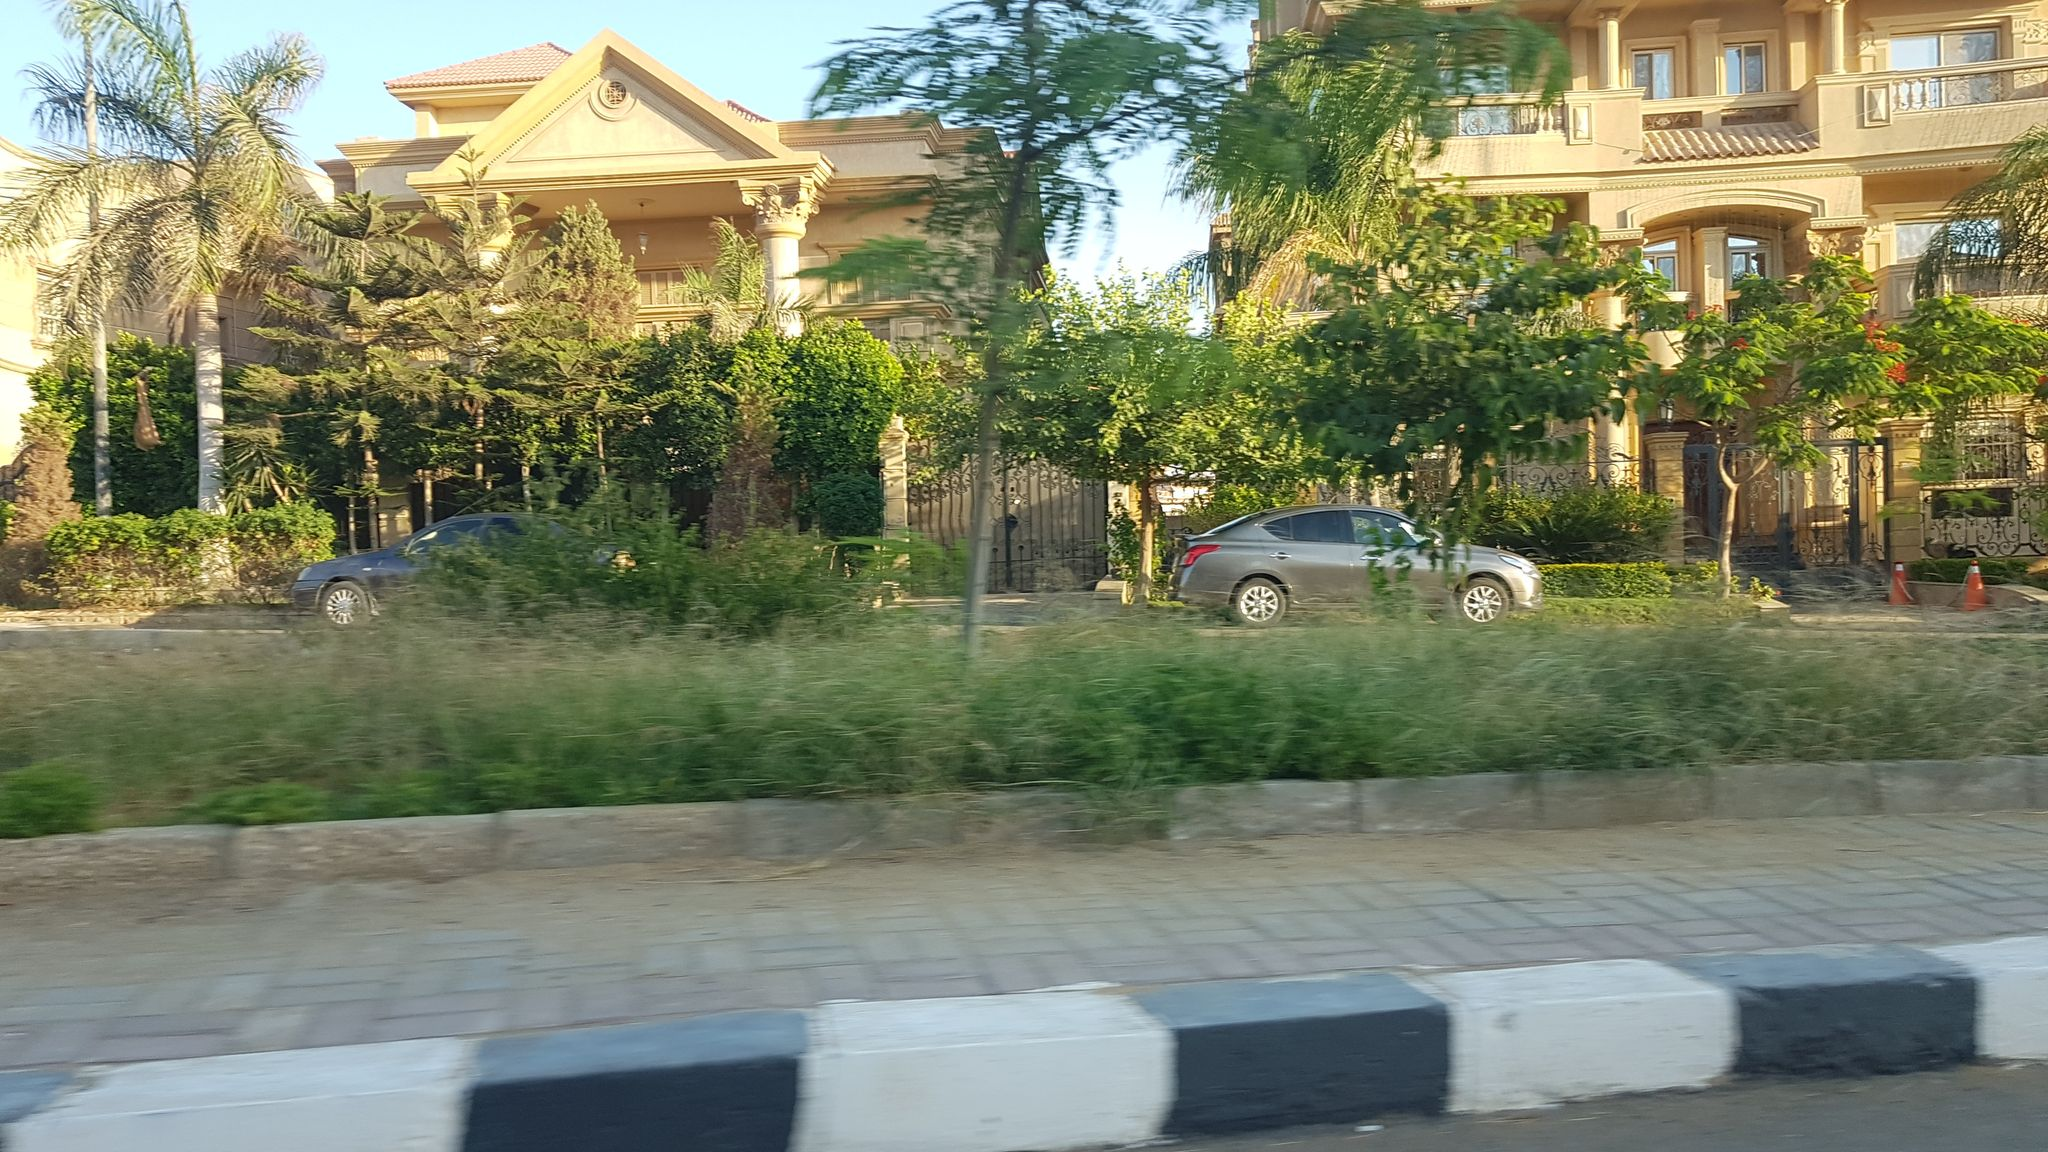car: (1170, 504, 1544, 620), (293, 511, 617, 619)
